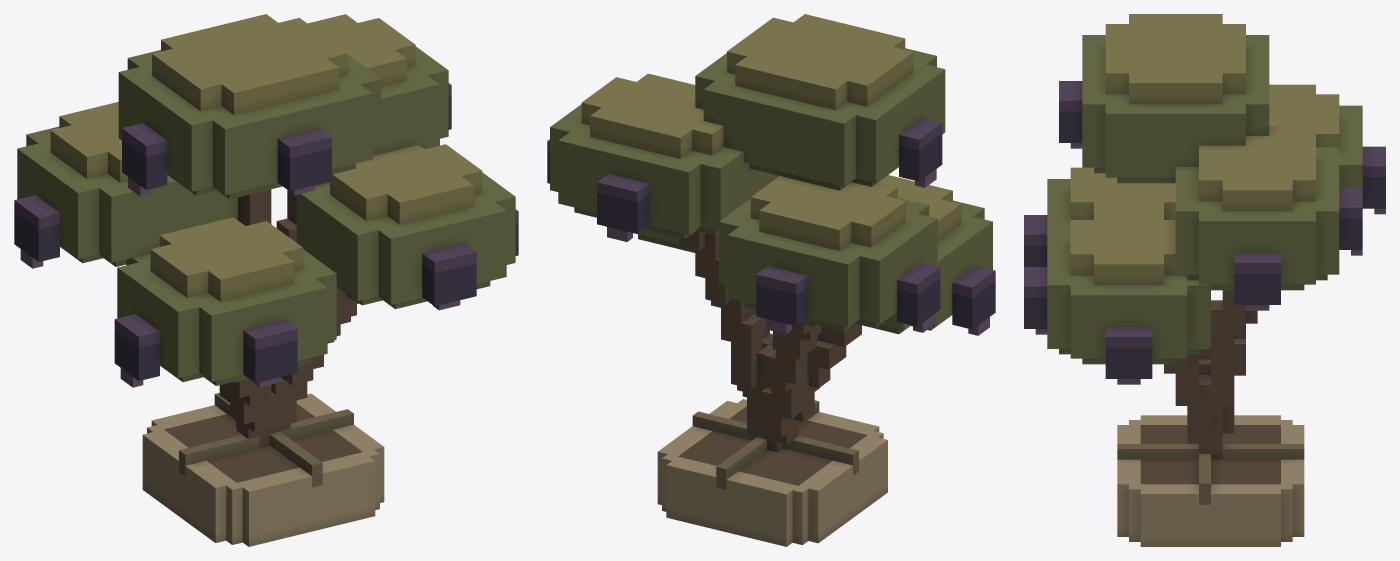
Rendered from elderberry_packed_autumn.glb.
The picture shows the model from 3 angles, left to right: view 1: azimuth 30°, elevation 25°; view 2: azimuth 150°, elevation 25°; view 3: azimuth 270°, elevation 25°; orthographic projection. The views are drawn at different scales.
Parts seen in each view (by area): view 1: VoxelVisual; view 2: VoxelVisual; view 3: VoxelVisual.
Part boxes in pixels (bbox=[...]): VoxelVisual: bbox=[14, 14, 518, 546]; VoxelVisual: bbox=[547, 14, 995, 546]; VoxelVisual: bbox=[1024, 14, 1385, 546].
Size of what is drawn, in the model's own units: 2.38 by 2.62 by 1.94.
